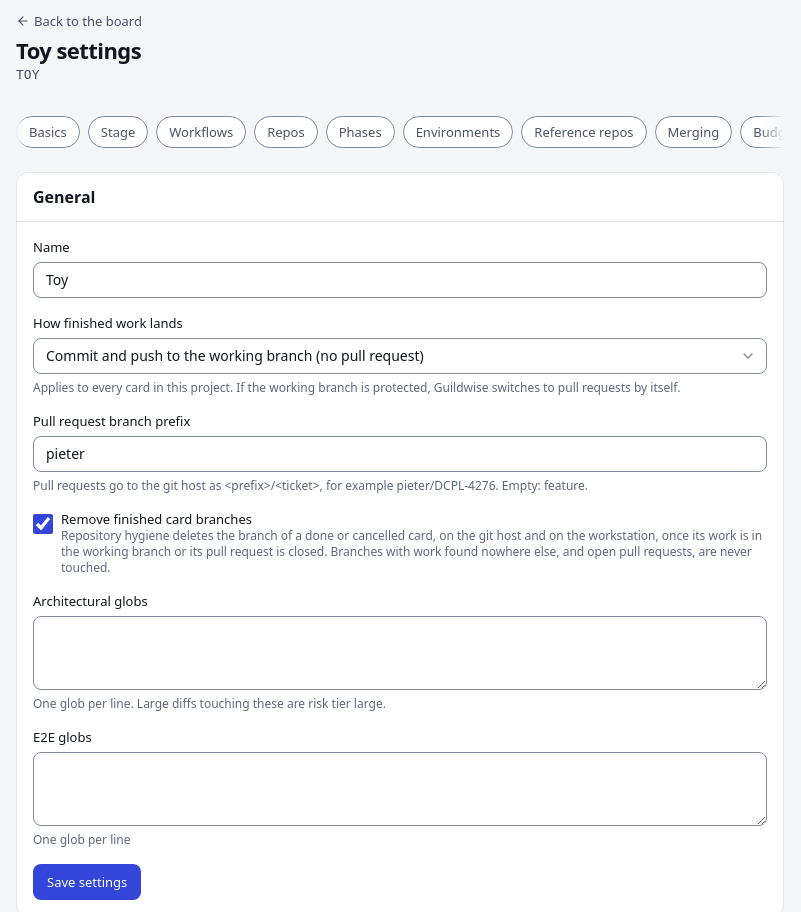
it: project settings for repo-less workflows › flags an invalid pull request branch prefix
Replace the text in the field labelled "Pull request branch prefix" with "has space" at [400, 454], box 33,436 -> 767,472
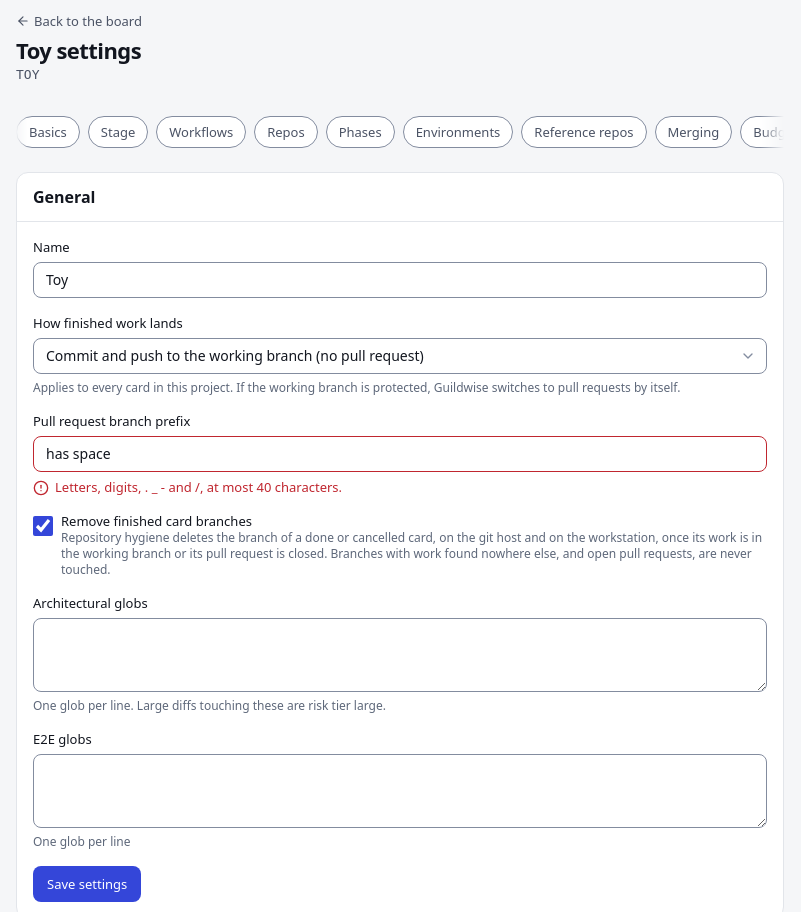
Result: the text "Letters, digits, . _ - and /, at most 40 characters." is shown at 33,478 -> 342,496
